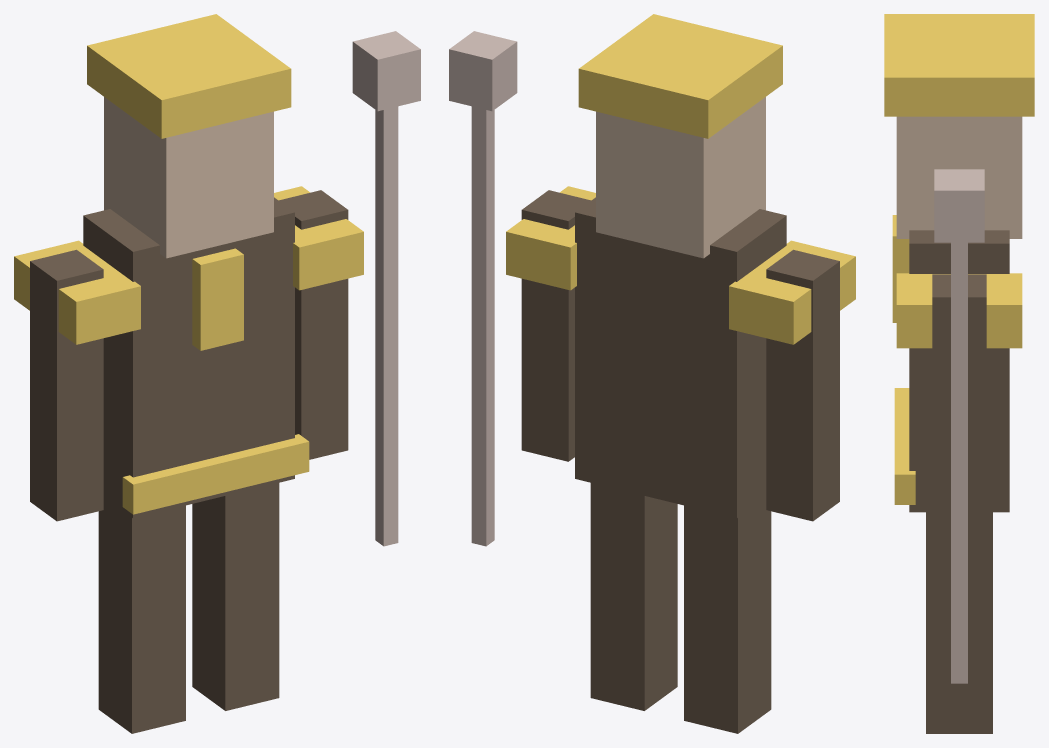
Rendered from 20_calder_dubwater_pilgrim_of_service.glb.
3 views of the same model, side by side, from view 1: azimuth 30°, elevation 25°; view 2: azimuth 150°, elevation 25°; view 3: azimuth 270°, elevation 25° (orthographic).
Parts seen in each view (by area): view 1: Calder Dubwater, Pilgrim of Service; view 2: Calder Dubwater, Pilgrim of Service; view 3: Calder Dubwater, Pilgrim of Service.
Boxes of the visible parts, <box> form: Calder Dubwater, Pilgrim of Service: <box>14,14,420,733</box>; Calder Dubwater, Pilgrim of Service: <box>449,14,855,733</box>; Calder Dubwater, Pilgrim of Service: <box>884,14,1034,733</box>.
Size of the model in its own units: 1.01 by 1.7 by 0.3568.
